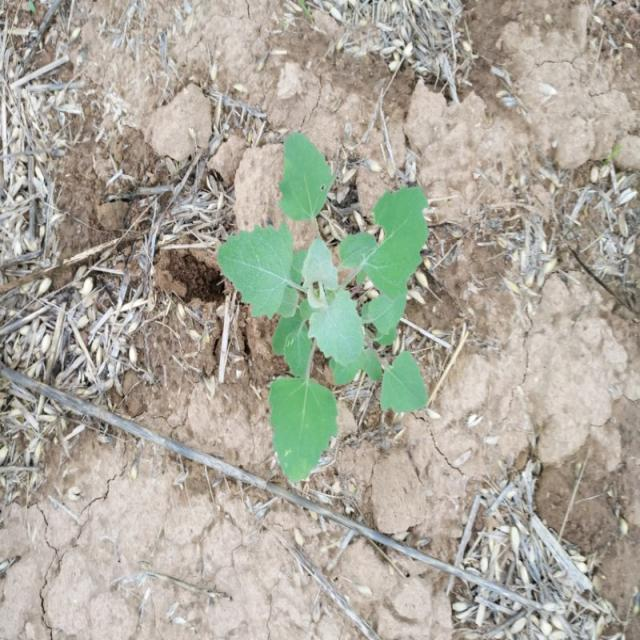goosefoots: (222, 148, 460, 483)
